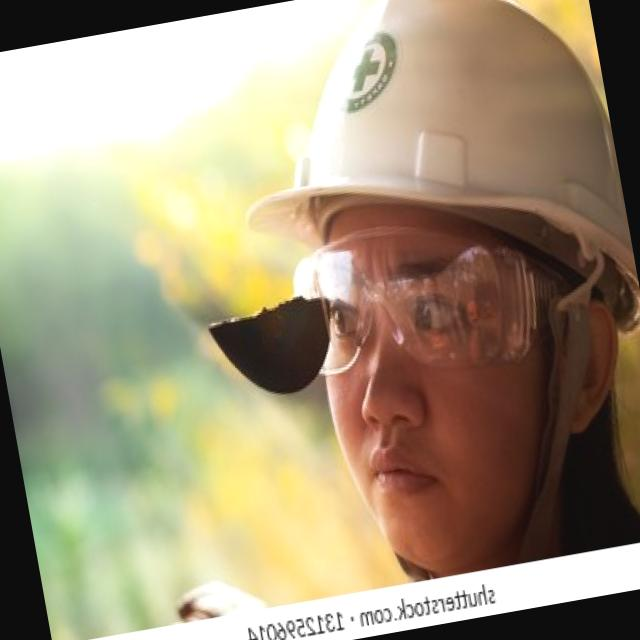goggles: (284, 207, 576, 402)
helmet: (203, 0, 640, 405)
